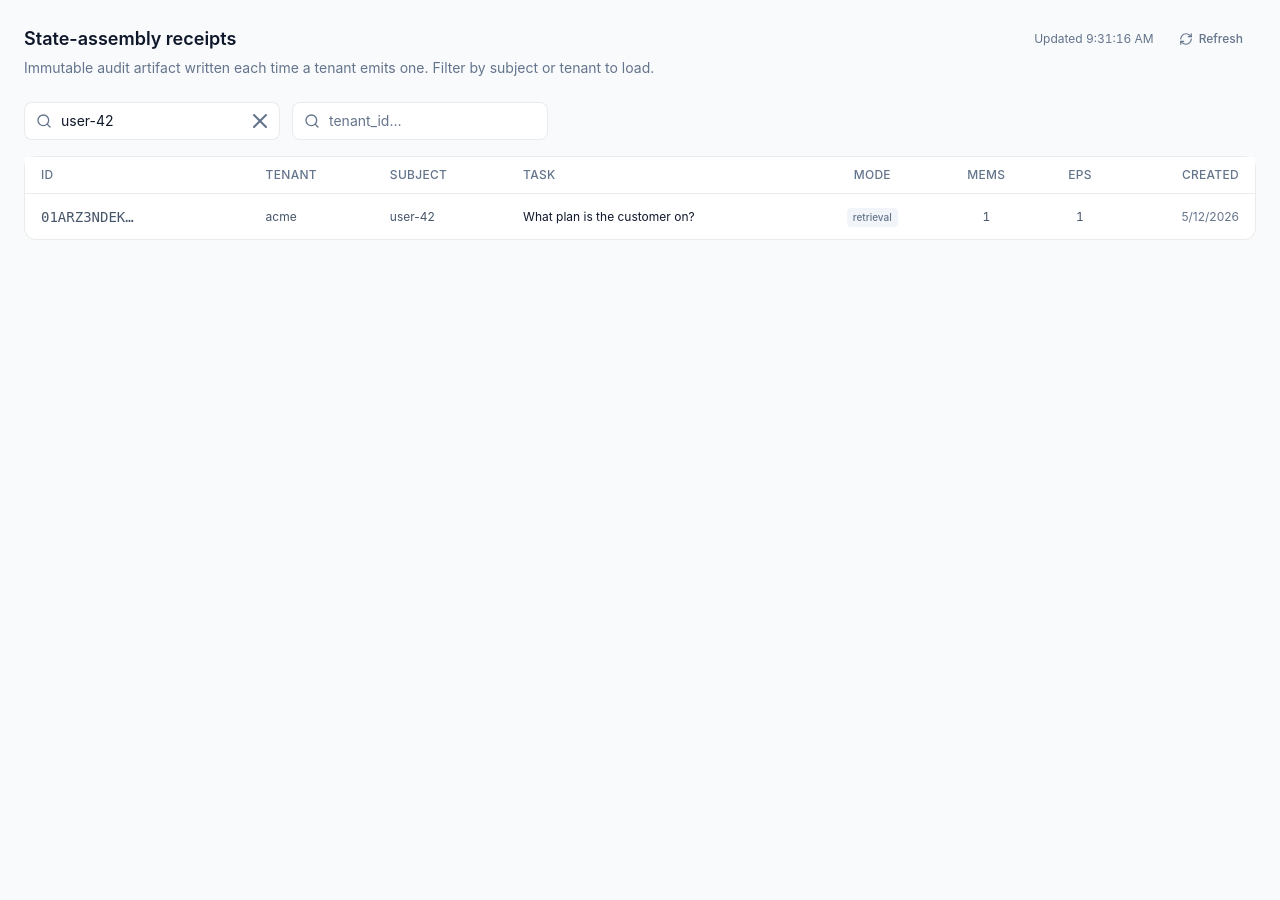
Test: ReceiptsPage — replay button (v0.9 #159 / #160) › hides the replay button for pre-v0.9 receipts and explains why
Click the text "What plan is the customer on": x=640, y=216 [25,194,1255,239]
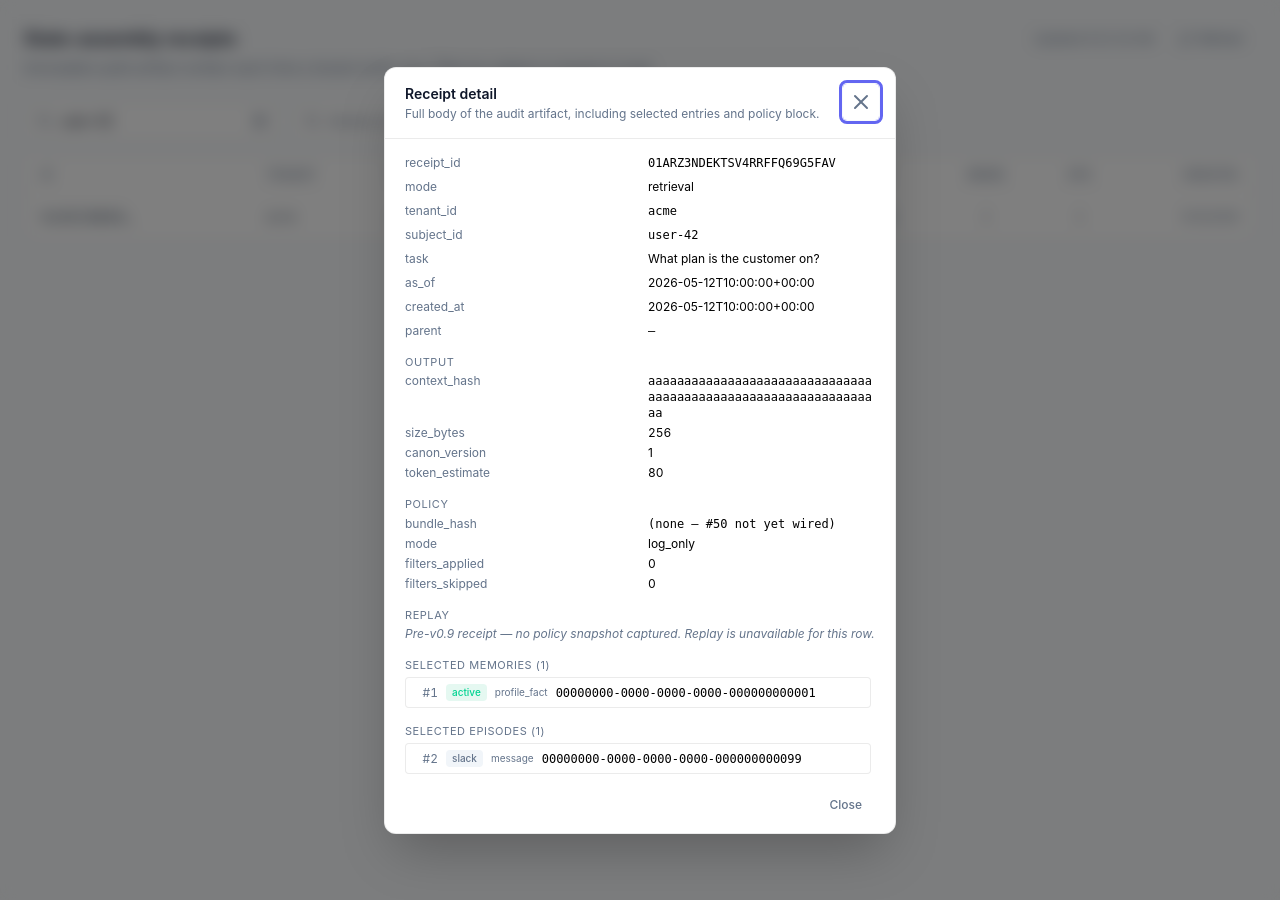
Expected: the text "Pre-v0.9 receipt" is shown, [405,626,875,642]
